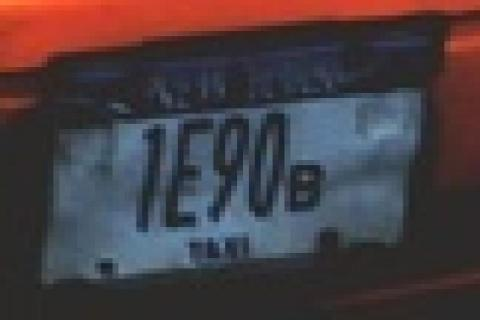LicensePlate: (36, 47, 446, 286)
